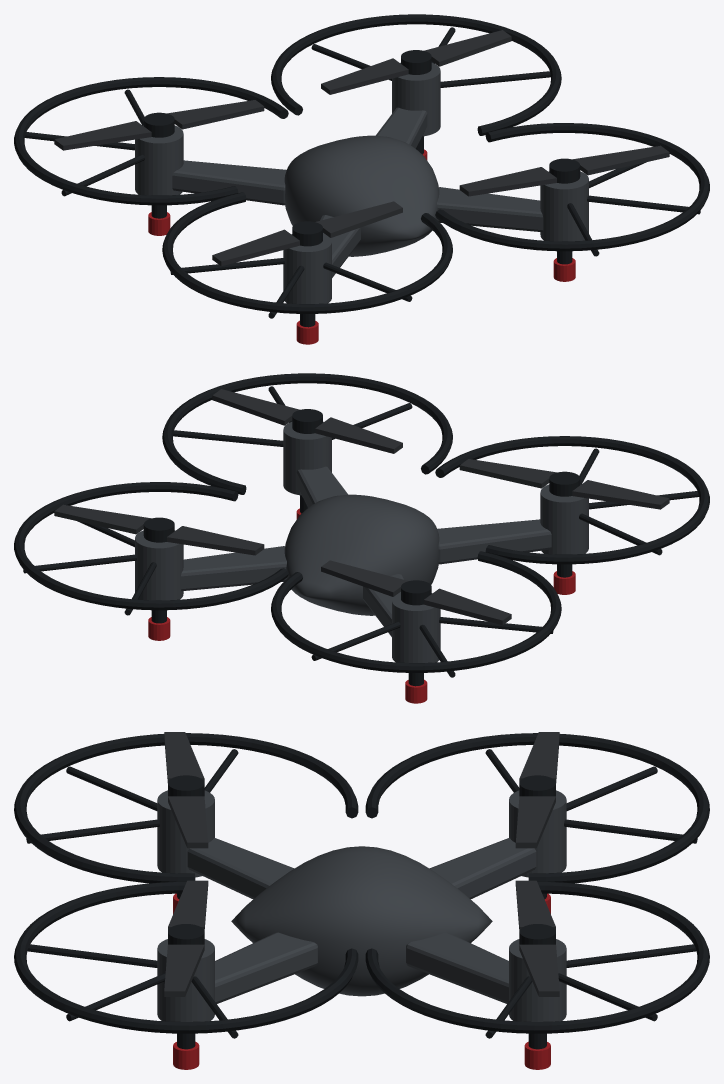
Rendered from drone2_p3_body_50x25.glb.
3 views of the same model, one above another, from view 1: azimuth 30°, elevation 25°; view 2: azimuth 150°, elevation 25°; view 3: azimuth 270°, elevation 25° (orthographic). The views are drawn at different scales.
Parts seen in each view (by area): view 1: body_core, guard_fr, guard_rl, guard_fl, guard_rr, arm_rl, arm_fr, rotor_rl_blades, rotor_fr_blades, rotor_rr_blades, rotor_fl_blades, motor_fr (+14 smaller); view 2: body_core, guard_rr, guard_fl, guard_rl, guard_fr, arm_fl, arm_rr, rotor_fl_blades, rotor_rr_blades, rotor_fr_blades, rotor_rl_blades, motor_rr (+14 smaller); view 3: body_core, guard_fr, guard_rr, guard_fl, guard_rl, arm_fr, arm_rr, arm_fl, arm_rl, rotor_fr_blades, rotor_rr_blades, rotor_fl_blades (+19 smaller).
Part boxes in pixels (x1,y1,x2,y2): body_core: (284,135,439,256); guard_fr: (435,123,709,251); guard_rl: (14,77,288,205); guard_fl: (162,192,452,313); guard_rr: (271,14,561,135); arm_rl: (172,160,286,205); arm_fr: (437,187,543,232); rotor_rl_blades: (54,100,264,150); rotor_fr_blades: (459,145,669,196); rotor_rr_blades: (321,30,511,94); rotor_fl_blades: (212,201,402,266); motor_fr: (540,171,588,241); body_core: (284,494,439,615); guard_rr: (14,482,288,610); guard_fl: (435,436,709,564); guard_rl: (271,551,561,672); guard_fr: (162,373,452,494); arm_fl: (437,519,551,564); arm_rr: (180,546,286,591); rotor_fl_blades: (459,459,669,509); rotor_rr_blades: (54,504,264,555); rotor_fr_blades: (212,389,402,453); rotor_rl_blades: (321,560,511,625); motor_rr: (135,530,183,600); body_core: (231,846,492,996); guard_fr: (14,881,358,1033); guard_rr: (365,881,709,1033); guard_fl: (14,733,358,883); guard_rl: (365,733,709,883); arm_fr: (215,932,317,1003); arm_rr: (406,932,508,1003); arm_fl: (187,838,294,899); arm_rl: (429,838,536,899); rotor_fr_blades: (164,880,208,996); rotor_rr_blades: (515,880,559,996); rotor_fl_blades: (164,732,208,848).
Size of what is drawn, in the model's own units: 0.133 by 0.028 by 0.133.
